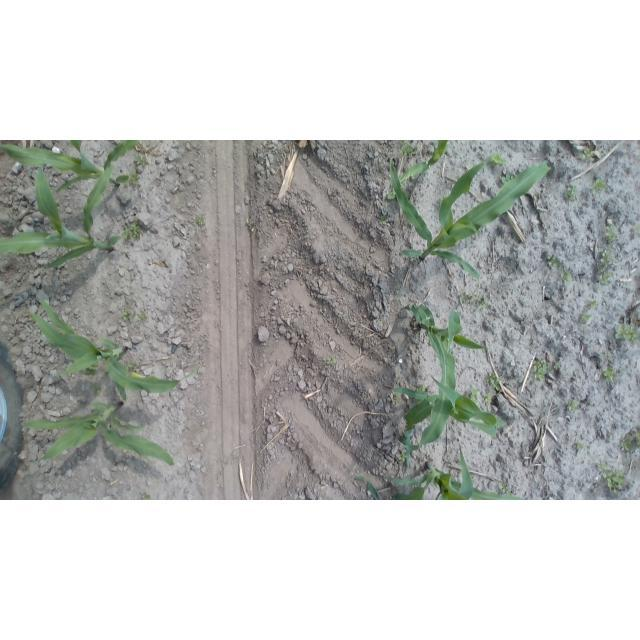Maize: (383, 158, 557, 276), (25, 291, 203, 396), (402, 297, 489, 450), (0, 168, 126, 269), (23, 398, 178, 472), (353, 443, 530, 500), (389, 377, 503, 453), (0, 141, 140, 192), (392, 142, 455, 187)
Weeds: (597, 462, 627, 495), (600, 250, 621, 288), (455, 292, 489, 311), (612, 321, 640, 344), (123, 220, 146, 241), (621, 427, 640, 452), (482, 370, 502, 392), (531, 358, 548, 381), (579, 141, 598, 161), (590, 177, 609, 197), (395, 140, 416, 157), (490, 153, 507, 172), (604, 225, 618, 247), (498, 171, 519, 185), (121, 172, 139, 188), (560, 267, 573, 288), (565, 186, 580, 203), (603, 366, 618, 383), (245, 217, 260, 233), (497, 481, 513, 496), (397, 451, 413, 466), (576, 311, 592, 325), (121, 307, 136, 321), (194, 212, 207, 228), (327, 353, 340, 369), (466, 388, 478, 405), (545, 254, 559, 268), (135, 154, 149, 167), (567, 399, 580, 413), (573, 441, 587, 454), (86, 364, 99, 377), (481, 392, 493, 406), (138, 309, 150, 322), (92, 384, 103, 397), (379, 214, 390, 227), (387, 187, 397, 201), (603, 350, 618, 359), (140, 492, 155, 500), (413, 386, 428, 394), (616, 366, 627, 376), (391, 394, 402, 404), (587, 300, 598, 309), (555, 363, 563, 374), (634, 224, 640, 237), (126, 363, 137, 370)
